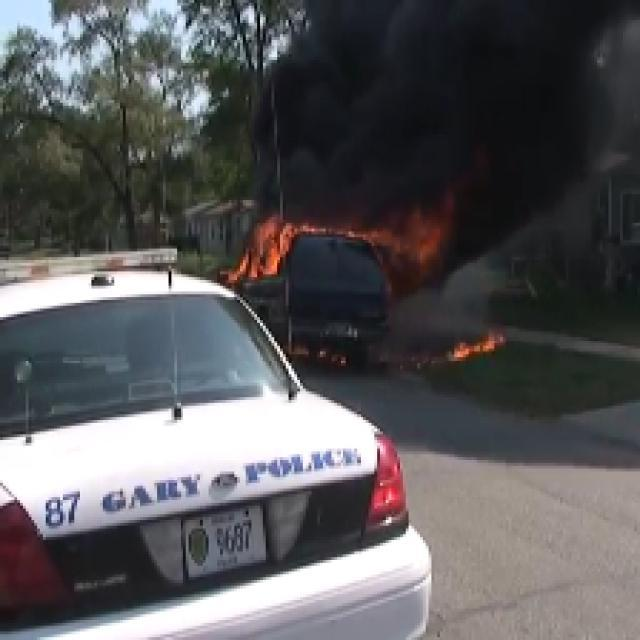Fire: (241, 223, 437, 280)
Smoke: (322, 19, 570, 206)
